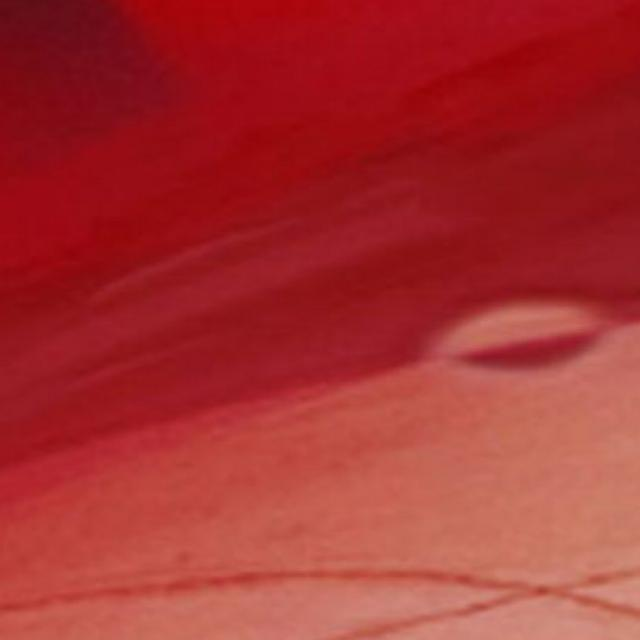dents: (423, 280, 640, 392)
